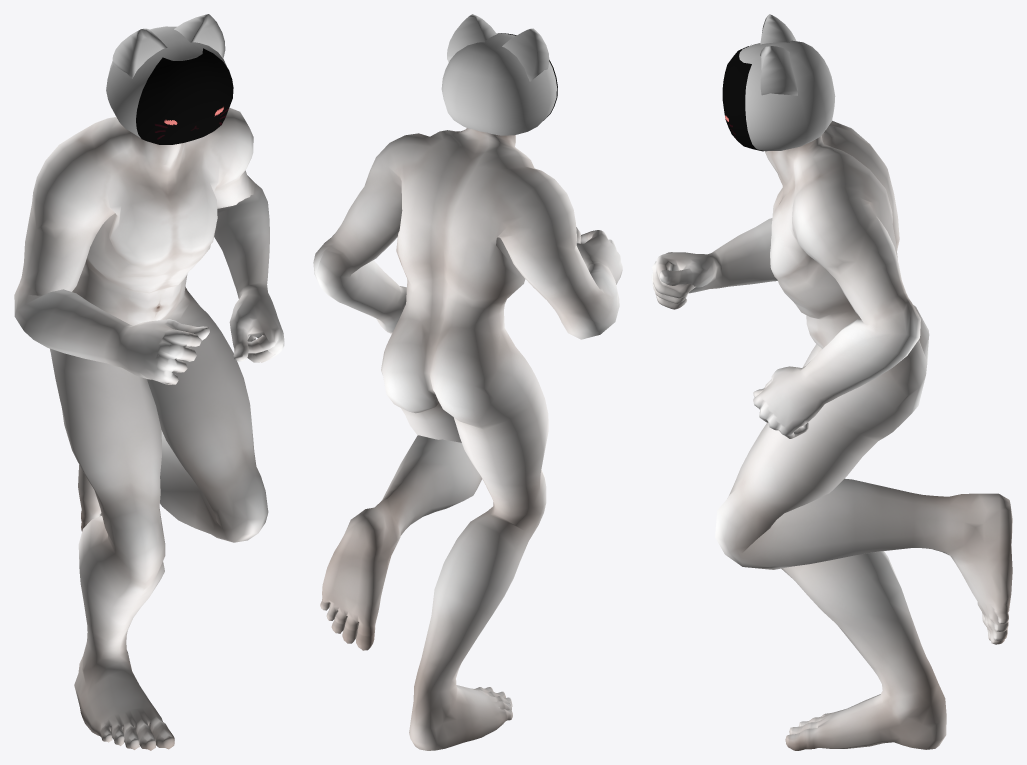
The picture shows the model from 3 angles, left to right: view 1: azimuth 30°, elevation 25°; view 2: azimuth 150°, elevation 25°; view 3: azimuth 270°, elevation 25°; orthographic projection. The views are drawn at different scales.
Parts seen in each view (by area): view 1: Muscle_Body, ______?001, Cat_Head; view 2: Muscle_Body, Cat_Head; view 3: Muscle_Body, Cat_Head, ______?001.
Part boxes in pixels (<box>): Muscle_Body: <box>14,107,284,750</box>; ______?001: <box>136,48,233,144</box>; Cat_Head: <box>106,14,226,137</box>; Muscle_Body: <box>313,128,622,750</box>; Cat_Head: <box>441,14,556,135</box>; Muscle_Body: <box>651,120,1012,750</box>; Cat_Head: <box>739,14,835,151</box>; ______?001: <box>722,46,763,151</box>.
Size of the model in its own units: 10.69 by 26.77 by 12.23.
